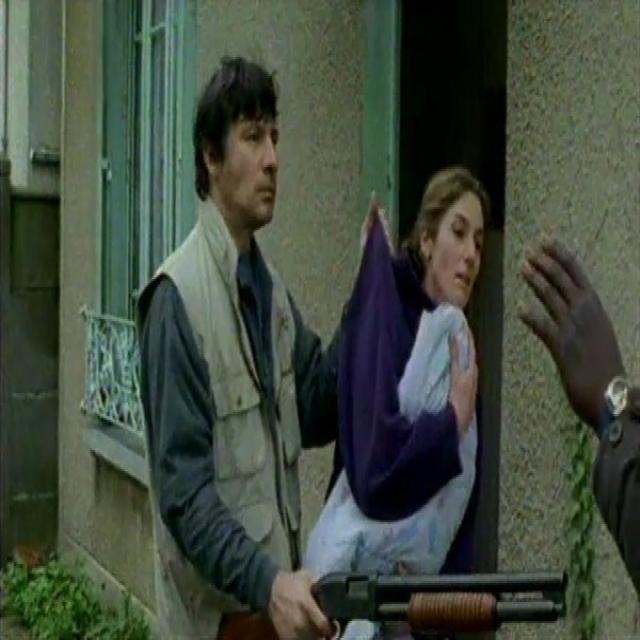rifle: (214, 551, 576, 640)
